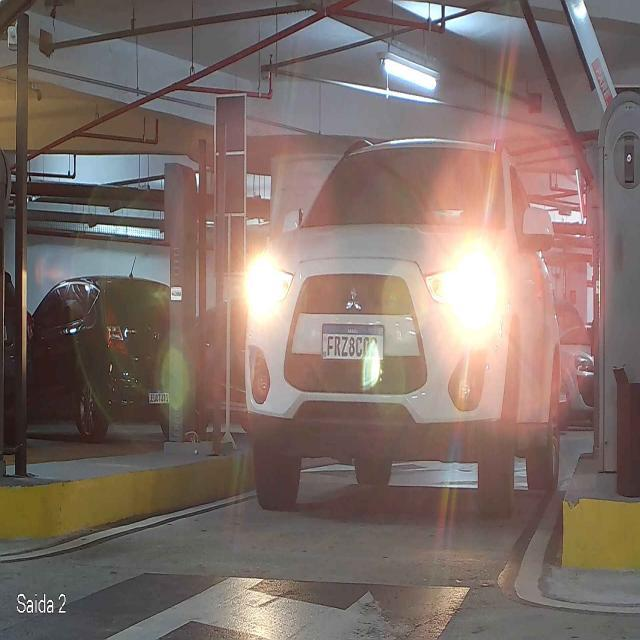mercosul_plate: (320, 321, 386, 362)
